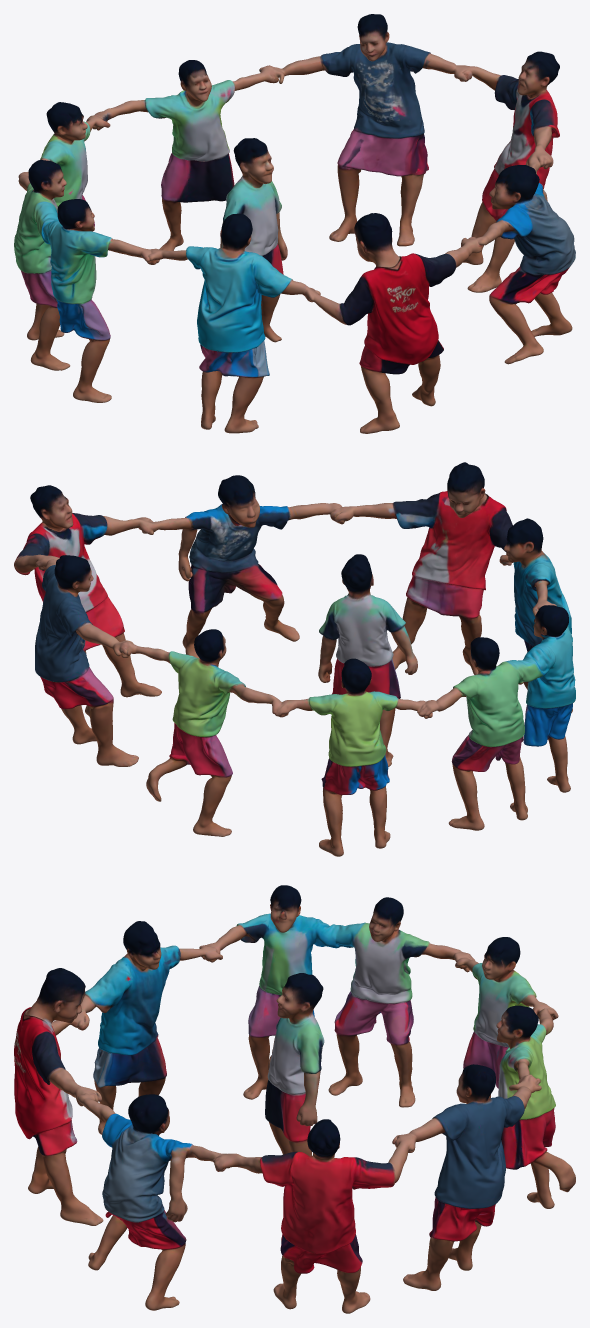
File: dolanan jamuran.glb
The picture shows the model from 3 angles, top to bottom: view 1: azimuth 30°, elevation 25°; view 2: azimuth 150°, elevation 25°; view 3: azimuth 270°, elevation 25°; orthographic projection. The views are drawn at different scales.
Parts seen in each view (by area): view 1: tripo_node_1c4144d3-3297-465f-9ad7-e6ae8bd800e5; view 2: tripo_node_1c4144d3-3297-465f-9ad7-e6ae8bd800e5; view 3: tripo_node_1c4144d3-3297-465f-9ad7-e6ae8bd800e5.
Boxes of the visible parts, box(x1,y1,x2,y2) form: tripo_node_1c4144d3-3297-465f-9ad7-e6ae8bd800e5: box(14, 14, 575, 433); tripo_node_1c4144d3-3297-465f-9ad7-e6ae8bd800e5: box(14, 462, 575, 856); tripo_node_1c4144d3-3297-465f-9ad7-e6ae8bd800e5: box(14, 885, 575, 1313).
Size of the model in its own units: 1 by 0.3957 by 0.8829.
1 material, 1 textured.
